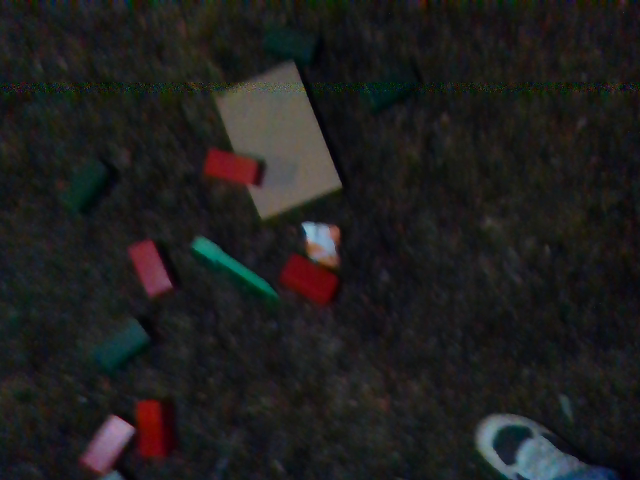Probe: (190, 233, 289, 301)
